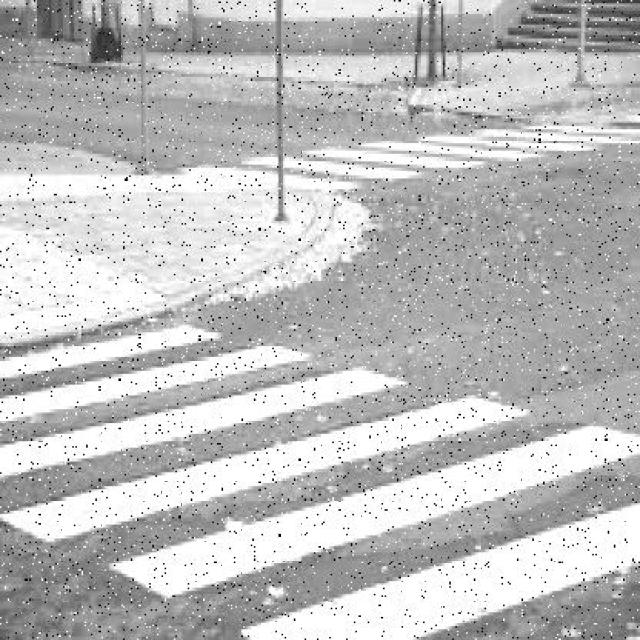intact_crosswalk: (0, 313, 640, 639), (161, 123, 640, 195)
